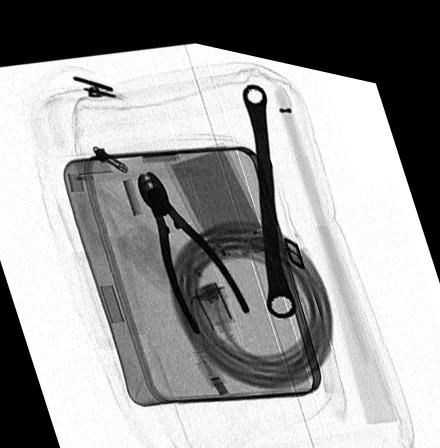Pliers: (135, 164, 250, 326)
Powerbank: (162, 132, 275, 254)
Wrench: (241, 70, 296, 308)
